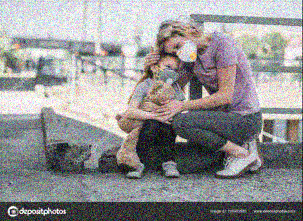with_mask: (170, 38, 199, 62), (155, 62, 180, 87)
